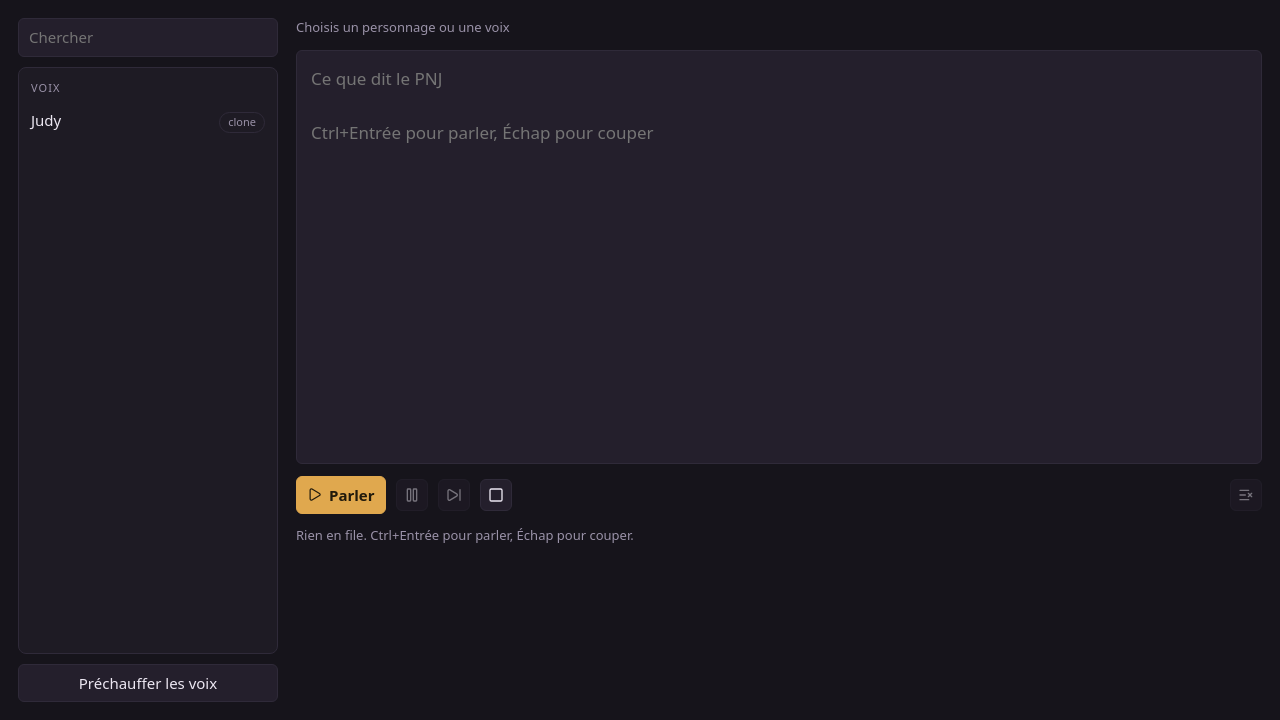
Test case: choix de la cible › refuse de parler tant que rien n'est choisi
Click the button "Parler". click: point(341, 495)
box: [296,476,386,514]
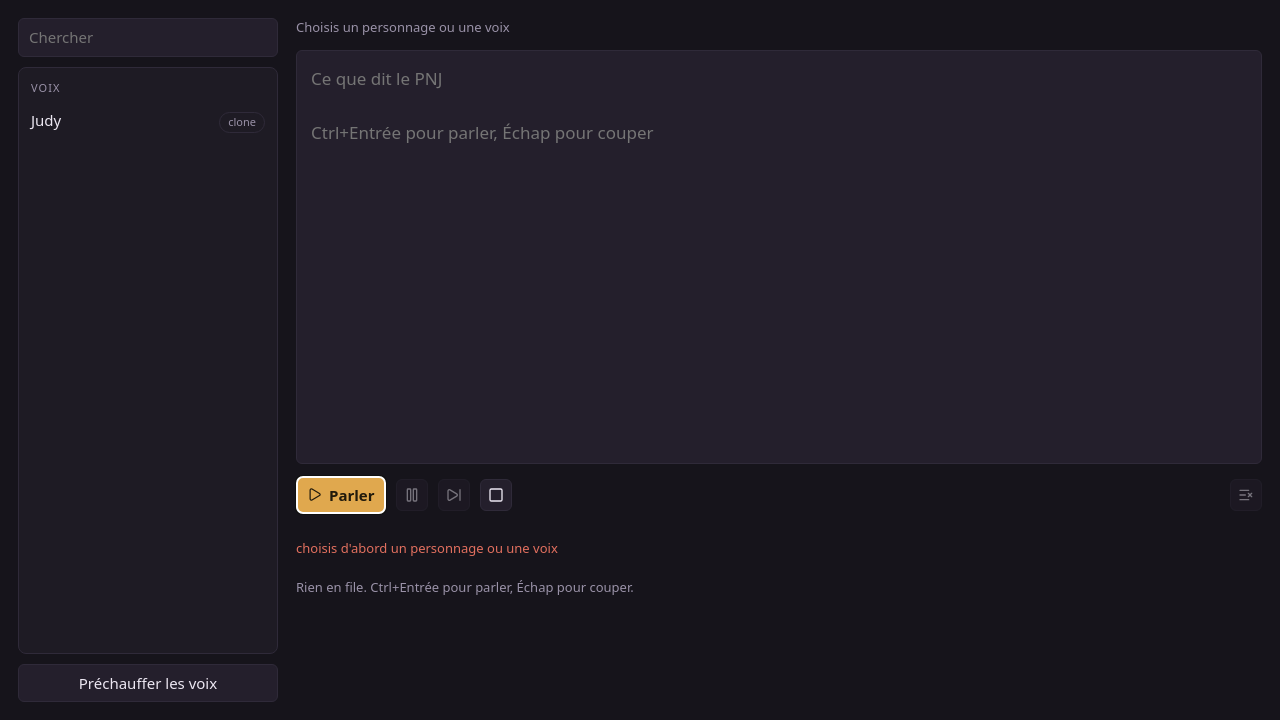
Expected: the text "choisis d'abord un personnage ou une voix" is shown, [296,539,558,557]
